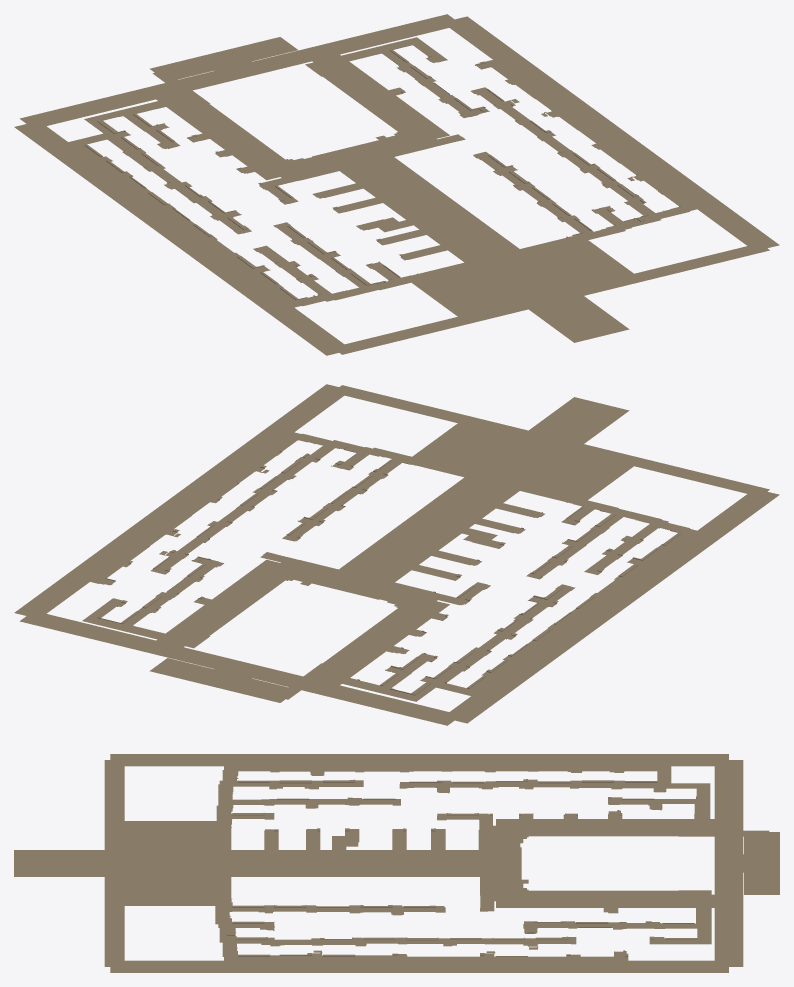
Rendered from senderos_ampliado.obj.
3 views of the same model, one above another, from view 1: azimuth 30°, elevation 25°; view 2: azimuth 150°, elevation 25°; view 3: azimuth 270°, elevation 25° (orthographic).
Parts seen in each view (by area): view 1: Senderos_ampliado; view 2: Senderos_ampliado; view 3: Senderos_ampliado.
Boxes of the visible parts, x1,y1,x2,y2 form: Senderos_ampliado: (14,14,779,355); Senderos_ampliado: (14,384,779,725); Senderos_ampliado: (14,754,779,972).
Bounding box in the file's own units: 36 × 0.04 × 53.25.
